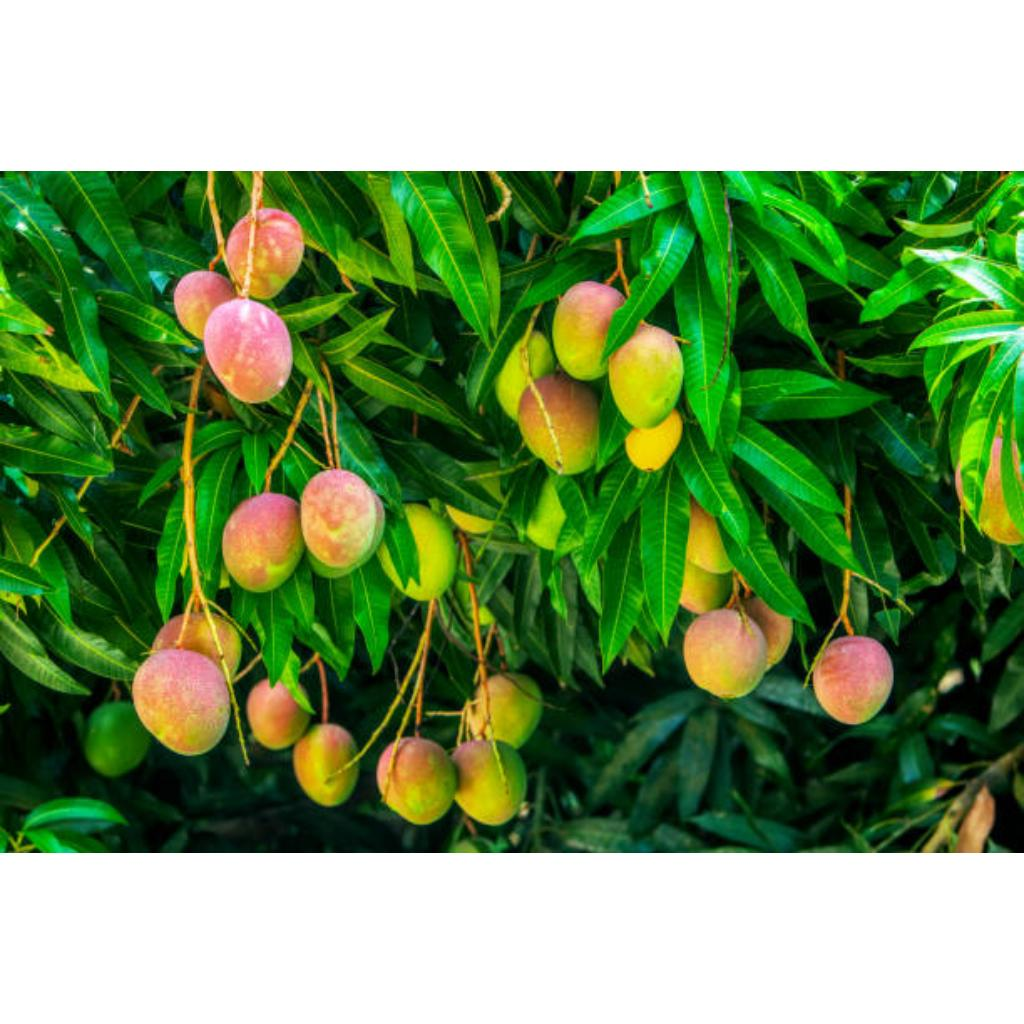mango: (134, 649, 228, 756), (226, 175, 304, 298), (300, 469, 386, 578), (206, 299, 290, 402), (222, 493, 304, 593), (518, 373, 598, 474), (608, 325, 684, 429), (552, 281, 626, 380), (684, 609, 766, 698), (376, 737, 456, 825), (814, 637, 892, 724), (452, 743, 526, 826), (460, 675, 540, 748), (153, 615, 242, 674), (294, 725, 358, 806), (248, 681, 310, 750), (174, 271, 236, 338), (744, 599, 794, 670)
